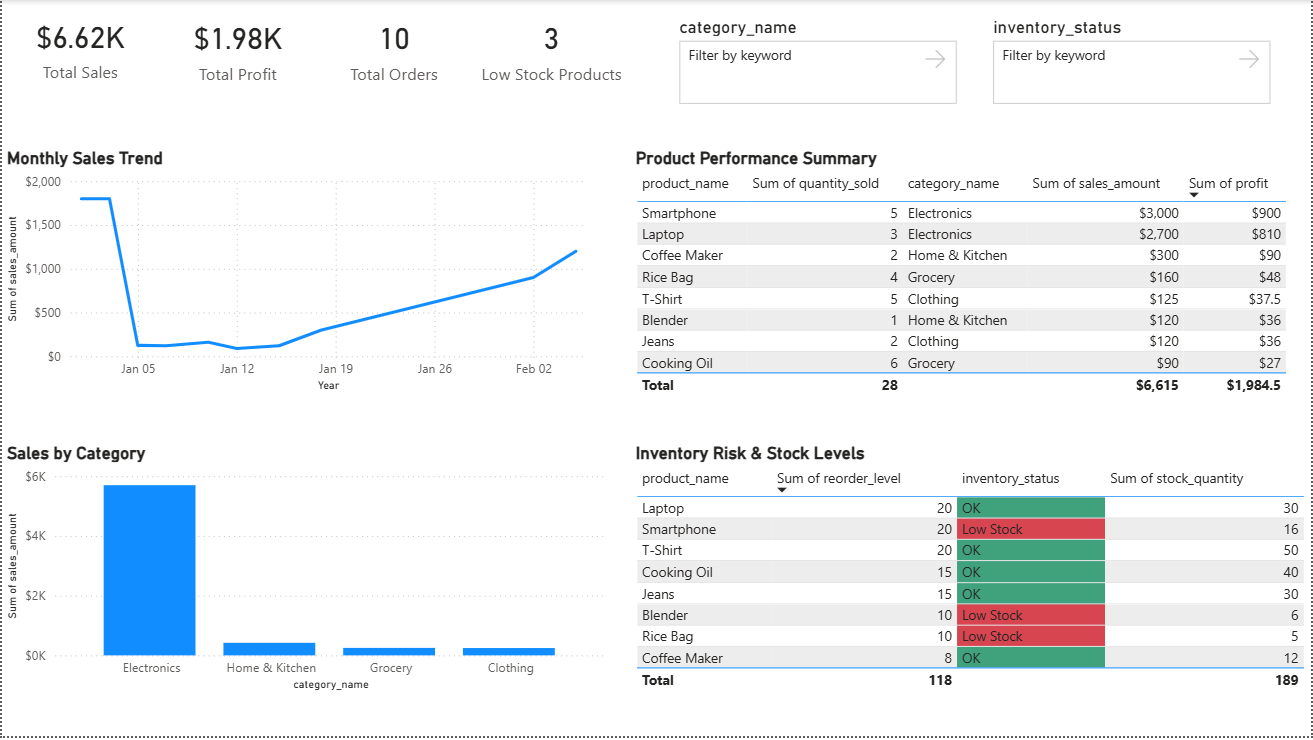

Layout of this report page (visuals, bound fields, positions):
{"tool":"powerbi","page":{"name":"Retail_Sales_Inventory_Analysis","canvas":[1280,720],"ordinal":0},"visuals":[{"type":"card","fields":{"Values":["Sum(retail_sales_cleaned.sales_amount)"]},"box":[0,0,153.7,91.9],"z":0},{"type":"card","fields":{"Values":["Sum(retail_sales_cleaned.profit)"]},"box":[153.7,1.4,153.7,91.9],"z":1000},{"type":"card","fields":{"Values":["CountNonNull(retail_sales_cleaned.order_id)"]},"box":[307.4,1.4,153.7,91.9],"z":2000},{"type":"card","fields":{"Values":["retail_sales_cleaned.Low Stock Products"]},"box":[461.1,1.4,153.7,91.9],"z":3000},{"type":"lineChart","title":"Monthly Sales Trend","fields":{"Y":["Sum(retail_sales_cleaned.sales_amount)"],"Category":["retail_sales_cleaned.order_date.Variation.Date Hierarchy.Year","retail_sales_cleaned.order_date.Variation.Date Hierarchy.Month","retail_sales_cleaned.order_date.Variation.Date Hierarchy.Day"]},"box":[0,144.1,584.6,244.3],"z":4000},{"type":"clusteredColumnChart","title":"Sales by Category","fields":{"Category":["retail_sales_cleaned.category_name"],"Y":["Sum(retail_sales_cleaned.sales_amount)"]},"box":[0,432.9,596.7,248.2],"z":5000},{"type":"tableEx","title":"Product Performance Summary","fields":{"Values":["retail_sales_cleaned.product_name","Sum(retail_sales_cleaned.quantity_sold)","retail_sales_cleaned.category_name","Sum(retail_sales_cleaned.sales_amount)","Sum(retail_sales_cleaned.profit)"]},"box":[614.8,144.1,649.1,253.9],"z":6000},{"type":"tableEx","title":"Inventory Risk & Stock Levels","fields":{"Values":["retail_sales_cleaned.product_name","Sum(retail_sales_cleaned.reorder_level)","retail_sales_cleaned.inventory_status","Sum(retail_sales_cleaned.stock_quantity)"]},"box":[615.1,432.9,665.2,251.9],"z":7000},{"type":"textSlicer","fields":{"Values":["retail_sales_cleaned.category_name"]},"box":[657.3,16.5,281.3,90.6],"z":8000},{"type":"textSlicer","fields":{"Values":["retail_sales_cleaned.inventory_status"]},"box":[964.7,16.5,281.3,90.6],"z":9000}]}

Visuals, with their boxes in screenshot pixels (x1, y1, x2, y2), scaled from the page's 1280x720 canvas onto the 1313x740 screenshot:
card - Sum(retail_sales_cleaned.sales_amount): bbox(0, 0, 158, 94)
card - Sum(retail_sales_cleaned.profit): bbox(158, 1, 315, 96)
card - CountNonNull(retail_sales_cleaned.order_id): bbox(315, 1, 473, 96)
card - retail_sales_cleaned.Low Stock Products: bbox(473, 1, 631, 96)
"Monthly Sales Trend" lineChart: bbox(0, 148, 600, 399)
"Sales by Category" clusteredColumnChart: bbox(0, 445, 612, 700)
"Product Performance Summary" tableEx: bbox(631, 148, 1296, 409)
"Inventory Risk & Stock Levels" tableEx: bbox(631, 445, 1312, 704)
textSlicer - retail_sales_cleaned.category_name: bbox(674, 17, 963, 110)
textSlicer - retail_sales_cleaned.inventory_status: bbox(990, 17, 1278, 110)
